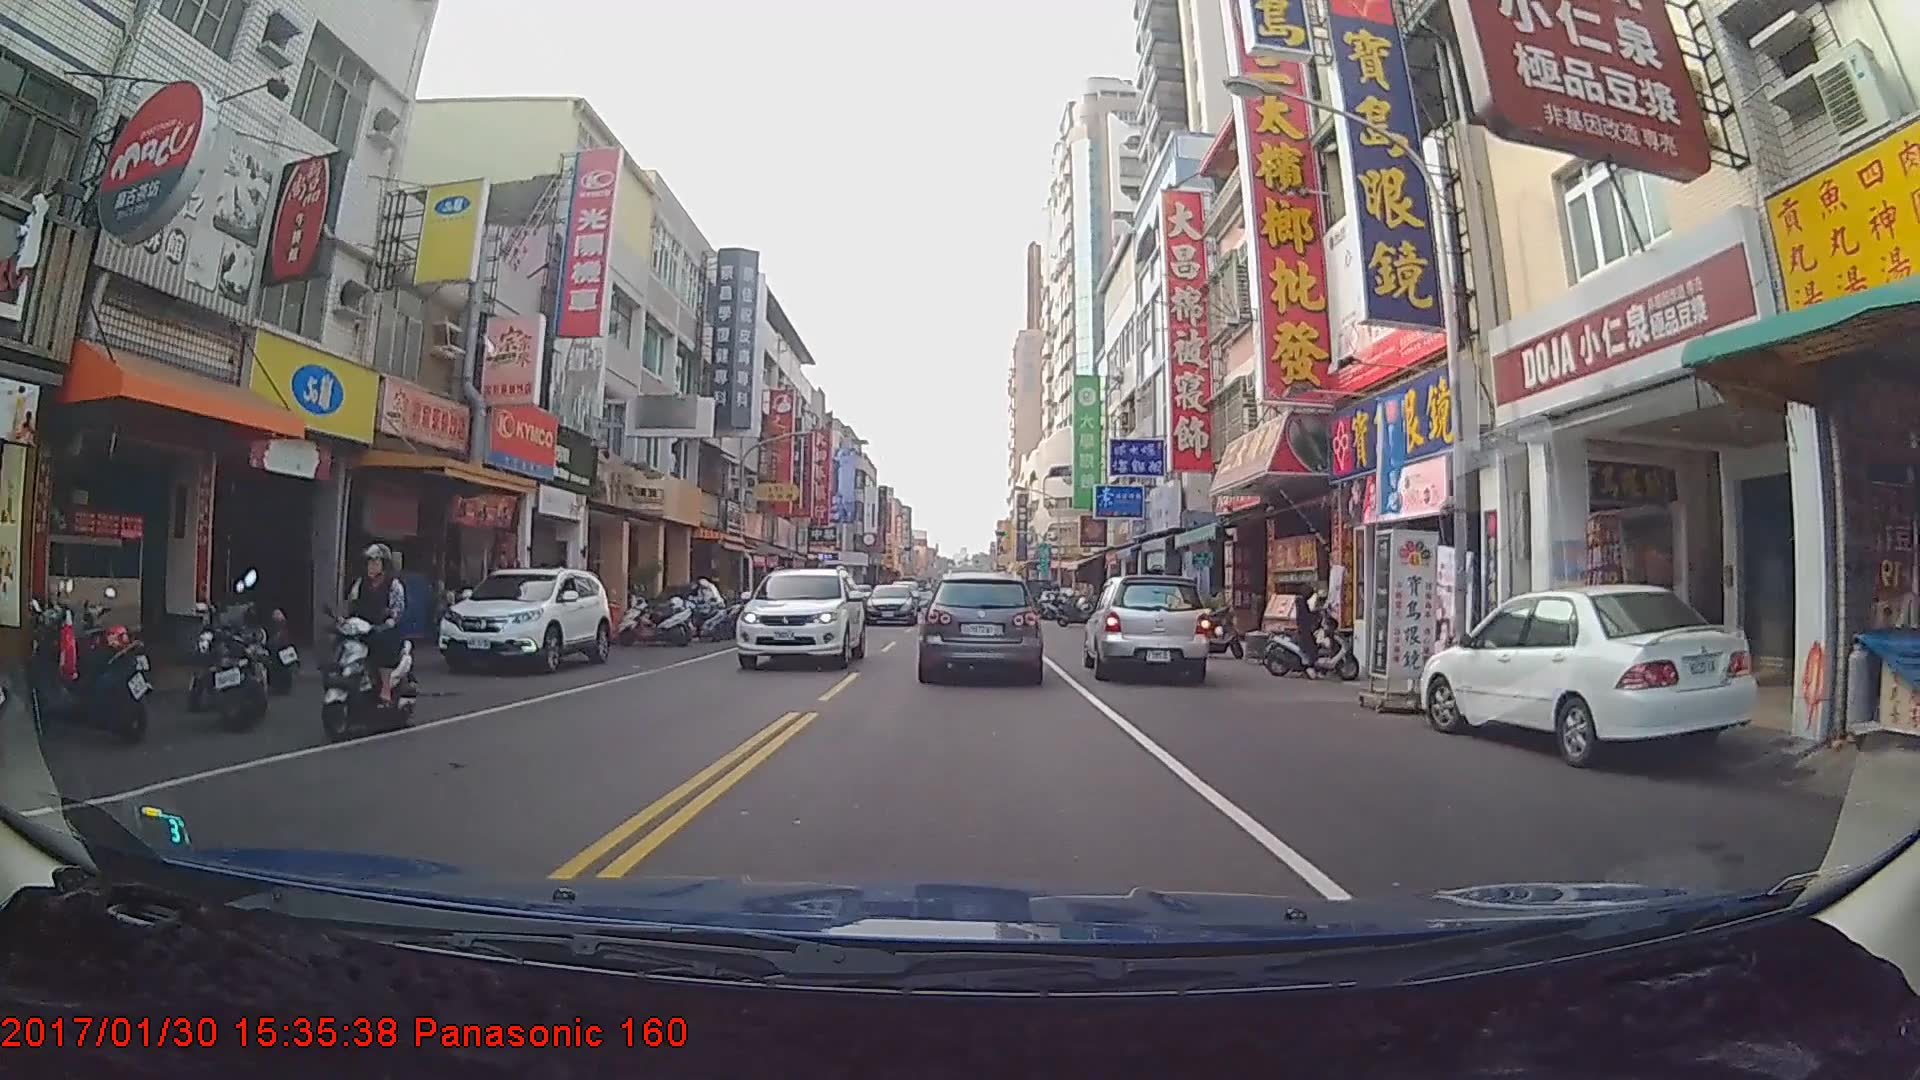rider: (316, 545, 420, 746), (1260, 577, 1366, 685)
vehicle: (1420, 586, 1761, 762), (436, 566, 610, 674), (1083, 573, 1209, 687), (736, 564, 866, 671), (921, 571, 1042, 681), (861, 583, 917, 626)
